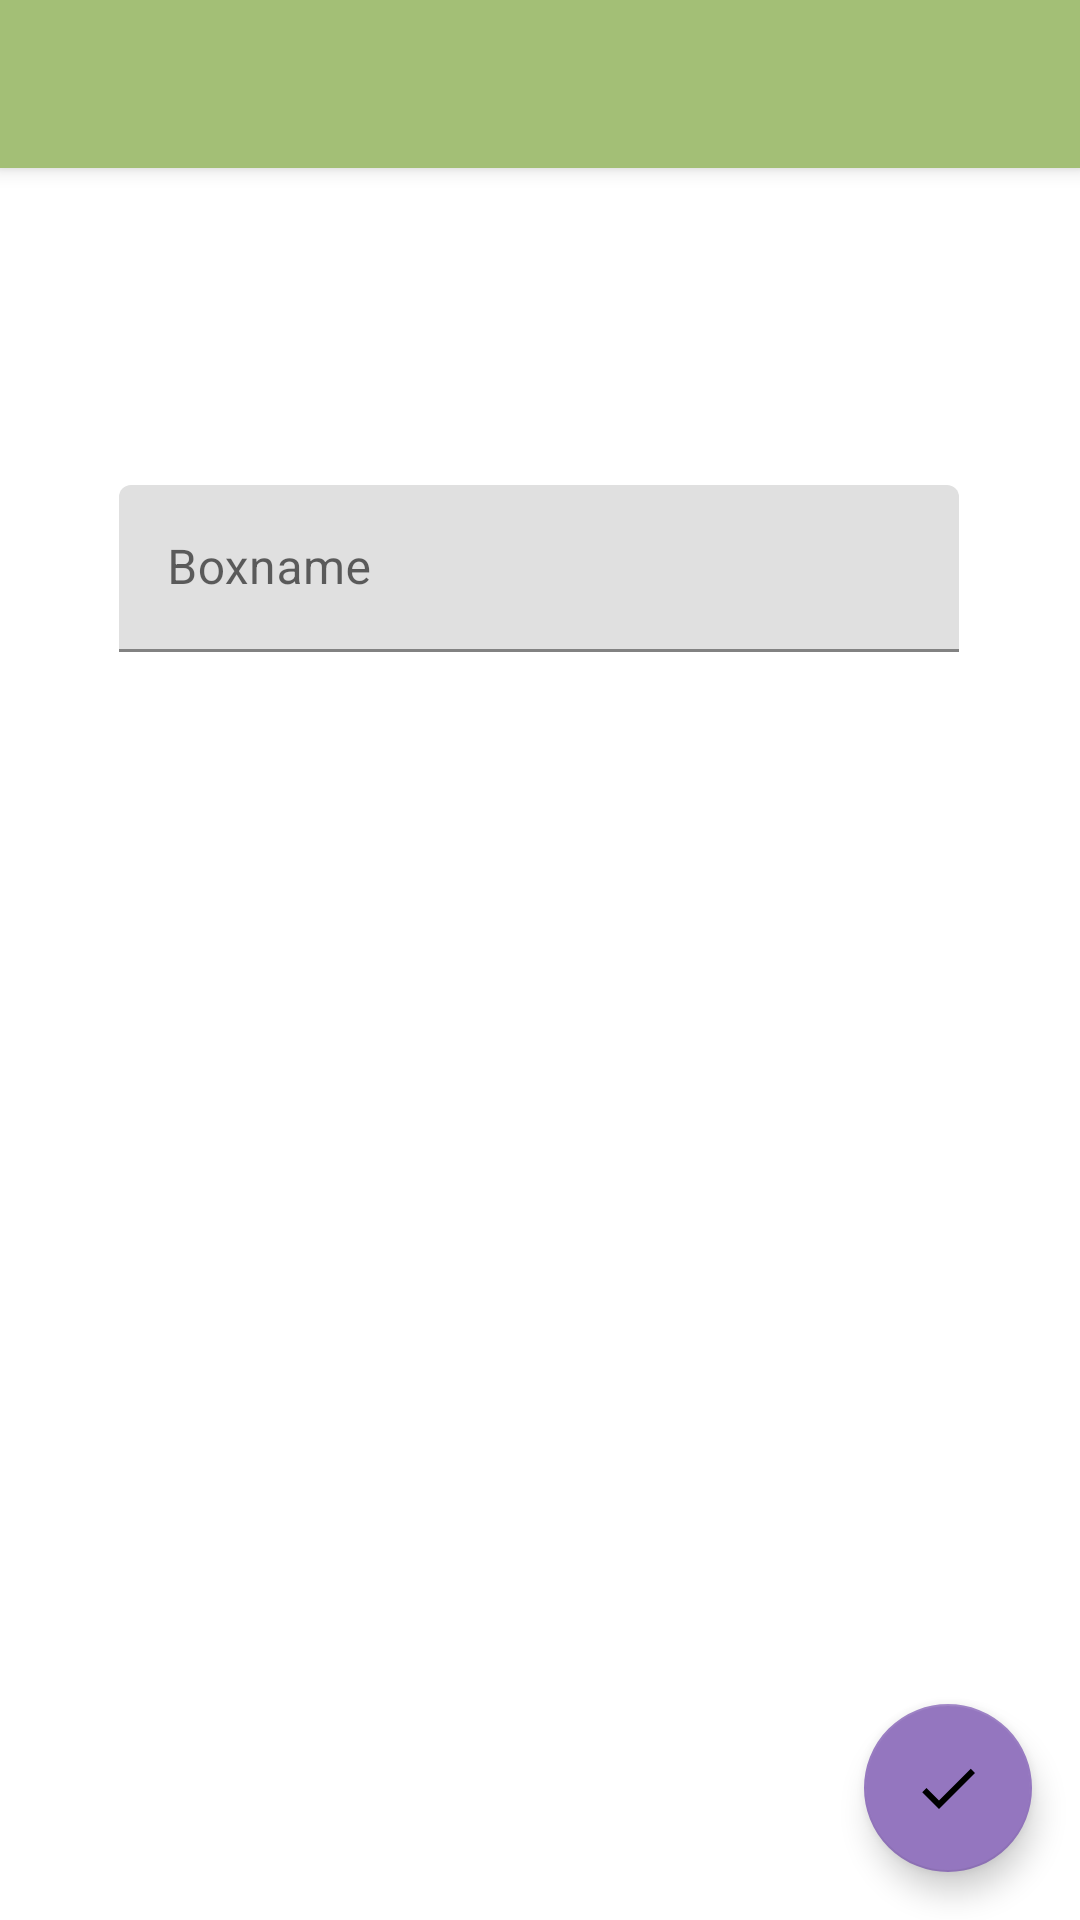

Locate icon controls on the screen. Image size 1080×1920, boxes as [x1,y1,x2,y2].
Box speichern: [864,1704,1032,1872]
